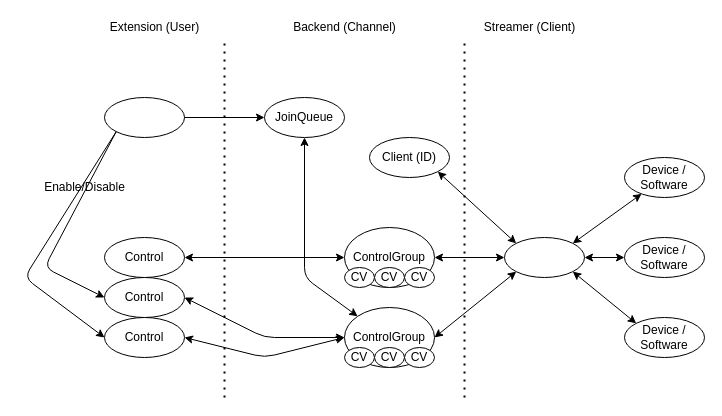
Some shapes in this 722 by 416 pixel diagram are drawn without their labels. Each missing label, with the box of its shape:
Client Software: (504, 236, 584, 278)
Join Control: (104, 96, 184, 138)
